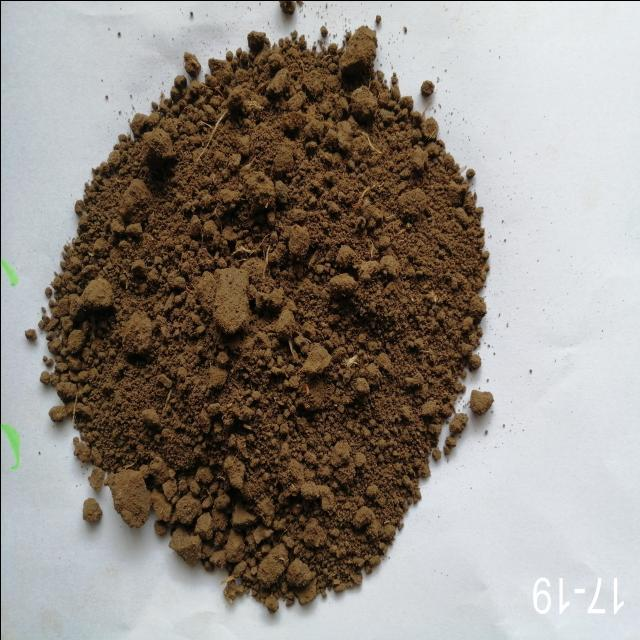soil: (128, 136, 408, 503)
